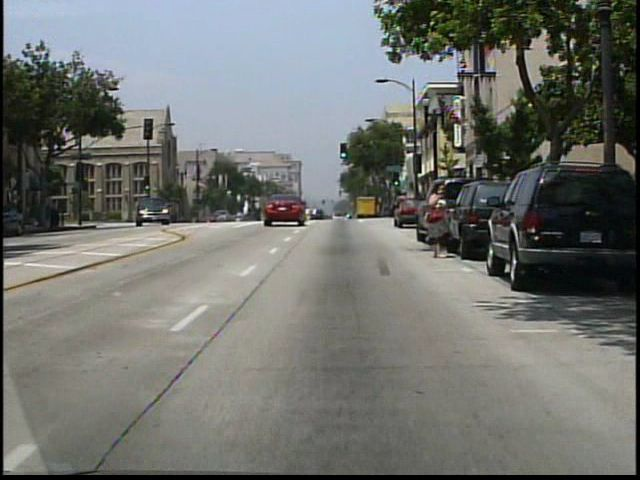person: (418, 182, 457, 260)
